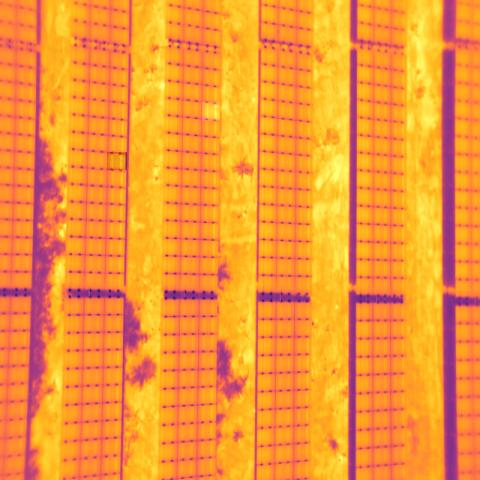fault: (107, 153, 128, 170), (202, 102, 220, 121)
